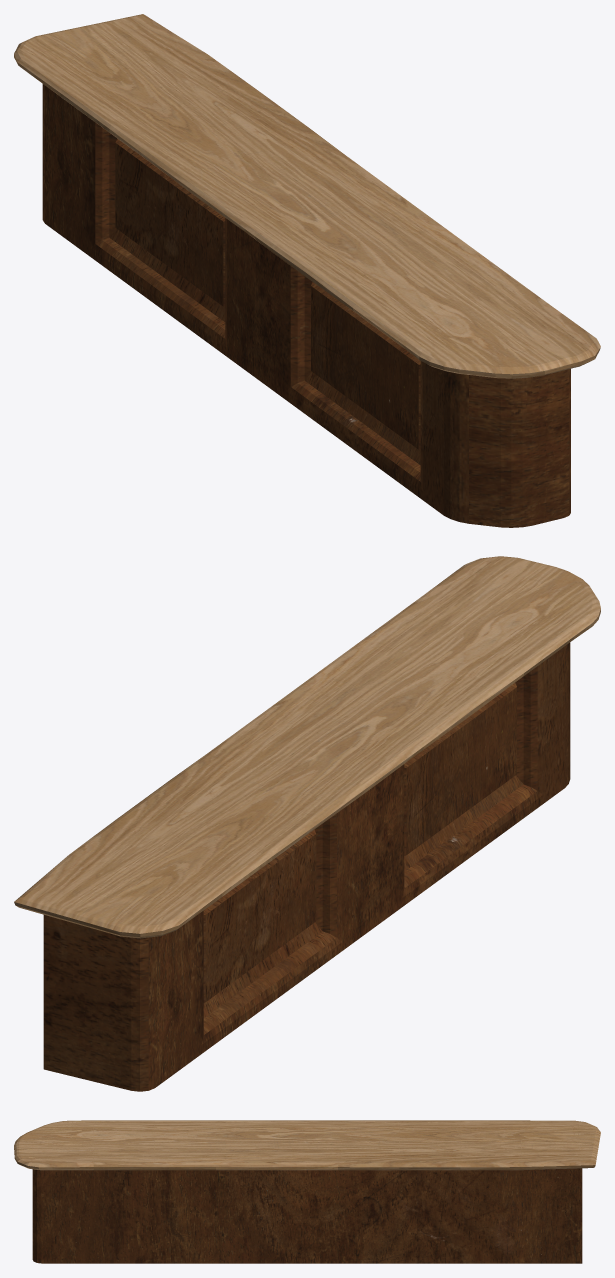
File: Bar01_Barra.fbx
3 views of the same model, one above another, from view 1: azimuth 30°, elevation 25°; view 2: azimuth 150°, elevation 25°; view 3: azimuth 270°, elevation 25° (orthographic). The views are drawn at different scales.
Parts seen in each view (by area): view 1: Barra; view 2: Barra; view 3: Barra.
Part boxes in pixels (box(x1,y1,x2,y2)): Barra: box(14, 14, 600, 527); Barra: box(14, 556, 600, 1091); Barra: box(14, 1120, 600, 1263).
Size of the model in its own units: 99.79 by 107 by 535.
